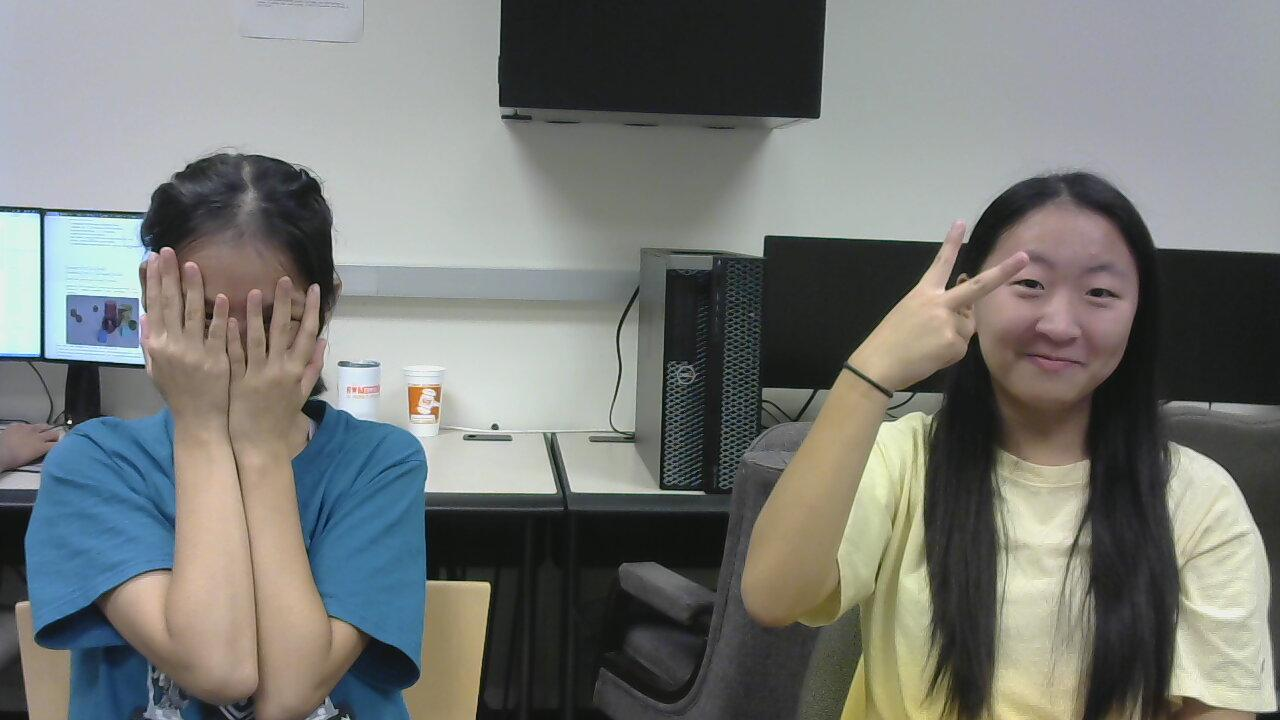hands: (223, 284, 342, 470), (131, 249, 219, 435)
peace: (846, 214, 1030, 393)
